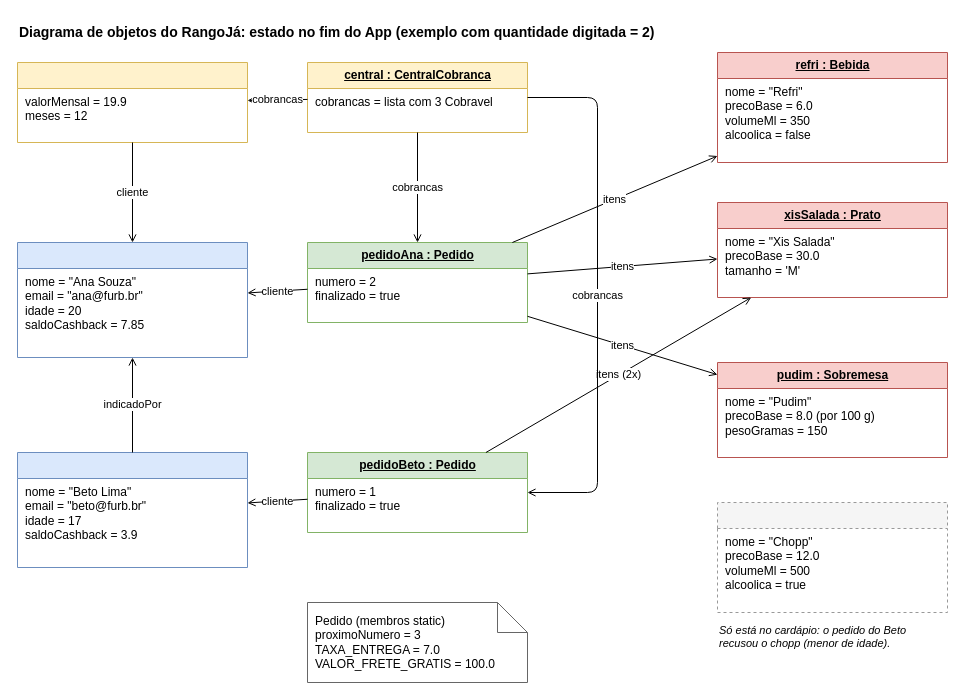
Some shapes in this 965 by 700 pixel diagram are drawn without their labels. The shapes that lost their labels are listed below. From the top down, each one's box as (x1, y1, x2, y2) in pixels, then its label:
(16, 62, 248, 142): assinatura : AssinaturaClube
(16, 242, 248, 358): ana : Cliente
(16, 452, 248, 568): beto : Cliente
(716, 502, 948, 612): chopp : Bebida
